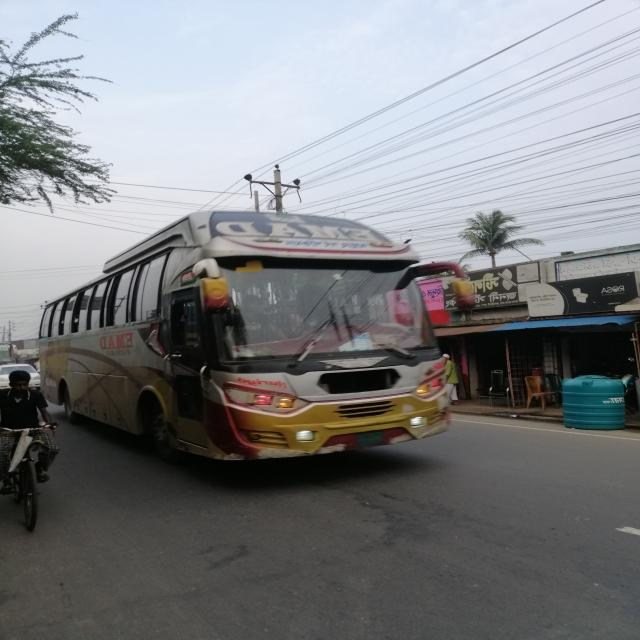Bicycle: (1, 395, 93, 538)
Bus: (18, 189, 493, 478)
